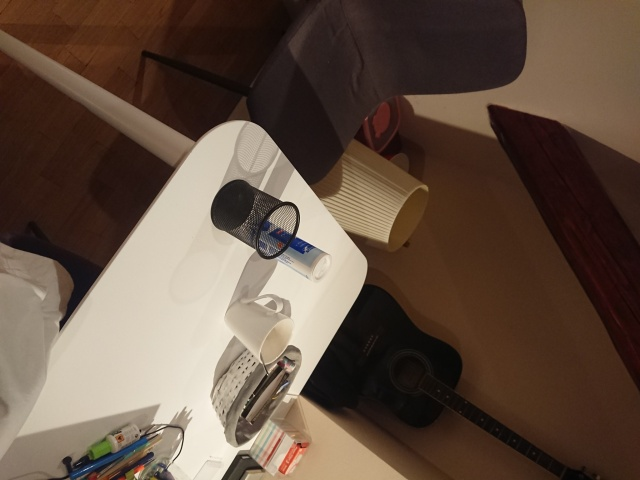Solana Pag Fine Sea Salt 250g: (243, 213, 337, 286)
